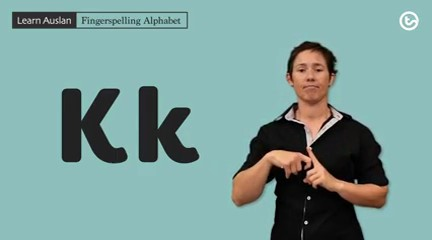K: (263, 140, 340, 196)
